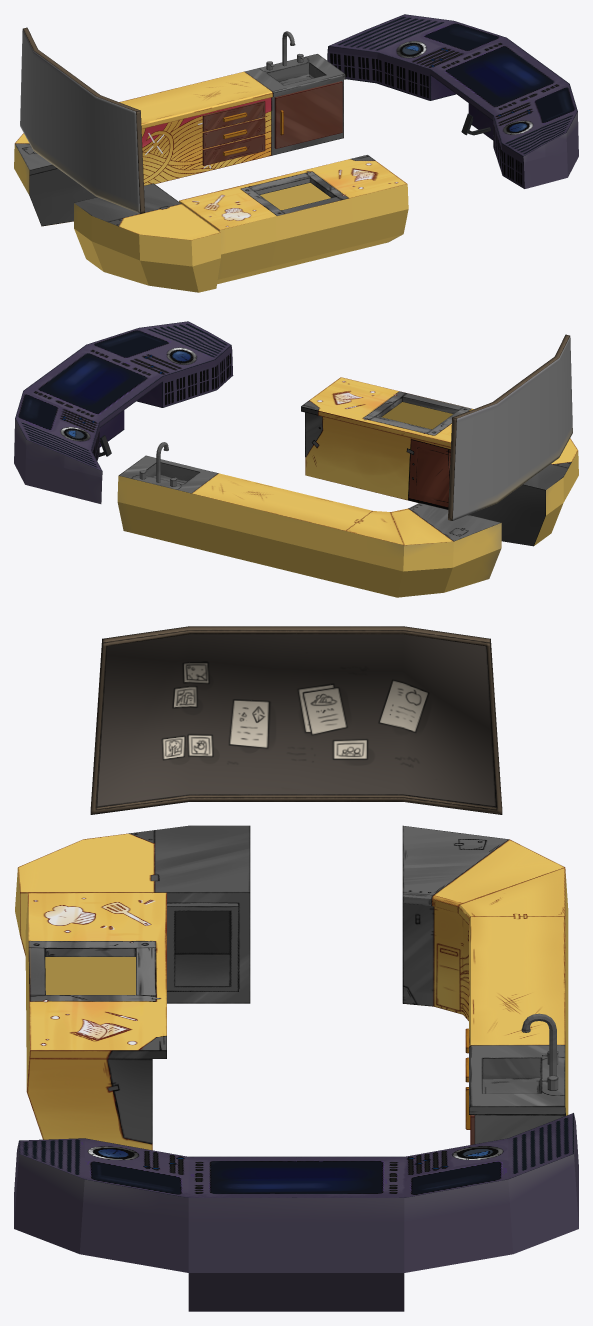
The model's file is ShipInterior.fbx.
3 renders of one model, top to bottom at view 1: azimuth 30°, elevation 25°; view 2: azimuth 150°, elevation 25°; view 3: azimuth 270°, elevation 25°, orthographic. The views are drawn at different scales.
Visible parts, largest first — view 1: Barra, Consola, PanelCorcho; view 2: Barra, Consola, PanelCorcho; view 3: Barra, Consola, PanelCorcho.
Boxes of the visible parts, x1,y1,x2,y2 form: Barra: [14, 31, 408, 292]; Consola: [327, 14, 578, 188]; PanelCorcho: [20, 27, 144, 213]; Barra: [117, 377, 578, 597]; Consola: [14, 321, 233, 503]; PanelCorcho: [448, 334, 572, 520]; Barra: [15, 825, 568, 1150]; Consola: [14, 1113, 578, 1311]; PanelCorcho: [90, 626, 502, 814].
Bounding box in the file's own units: 221 × 84.3 × 132.
